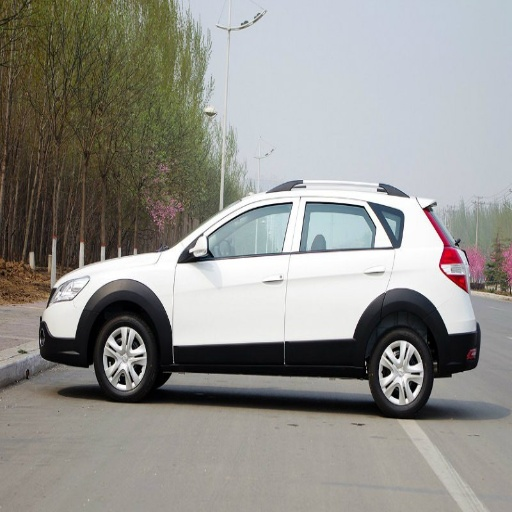back_left_door: (286, 197, 393, 361)
front_left_door: (174, 197, 298, 358)
